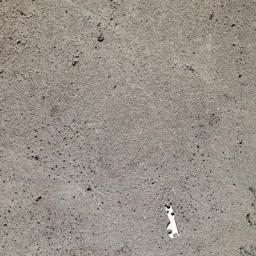FOD: (161, 202, 184, 241)
